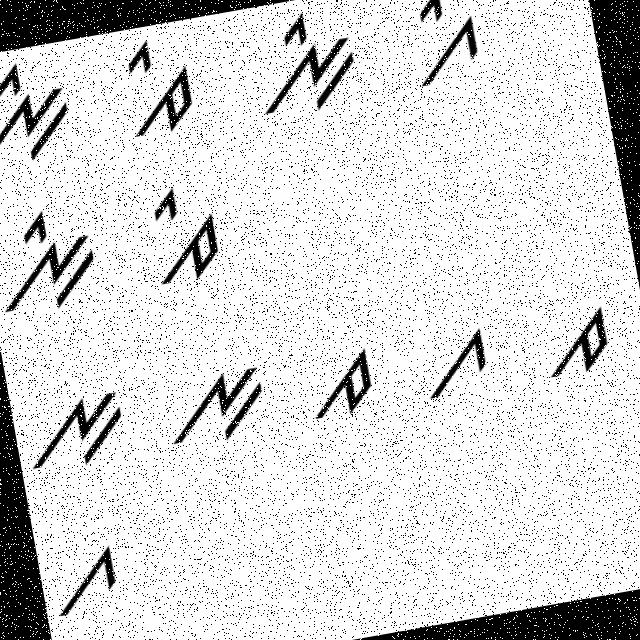ga: (412, 318, 502, 412), (44, 530, 130, 623)
gi: (387, 0, 490, 103)
nga: (152, 350, 276, 463), (18, 378, 133, 482)
ngi: (234, 2, 368, 125), (0, 198, 106, 321), (0, 52, 81, 172)
ta: (298, 338, 384, 430), (530, 301, 618, 388)
ti: (133, 169, 230, 294), (104, 30, 202, 148)
